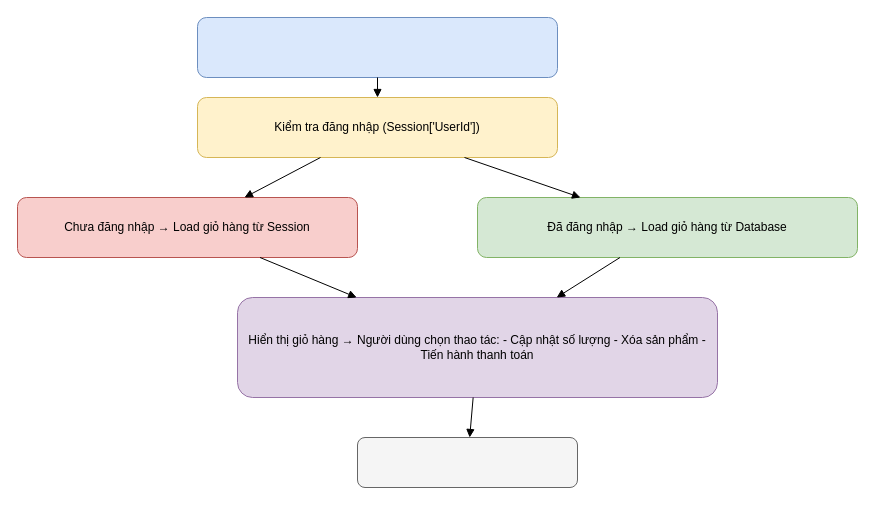
This 875x505 diagram has some shape labels left out. The centre of each missing label's shape, as x and y in pixels:
[Khách truy cập Giỏ hàng]: point (377, 47)
[Kết thúc luồng]: point (467, 462)
